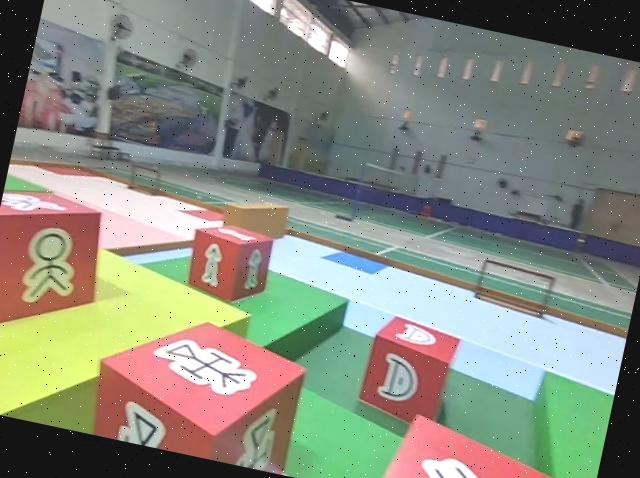R2 Real: (80, 294, 315, 476), (0, 179, 117, 347), (362, 403, 602, 478), (353, 307, 466, 434), (180, 215, 279, 311)
